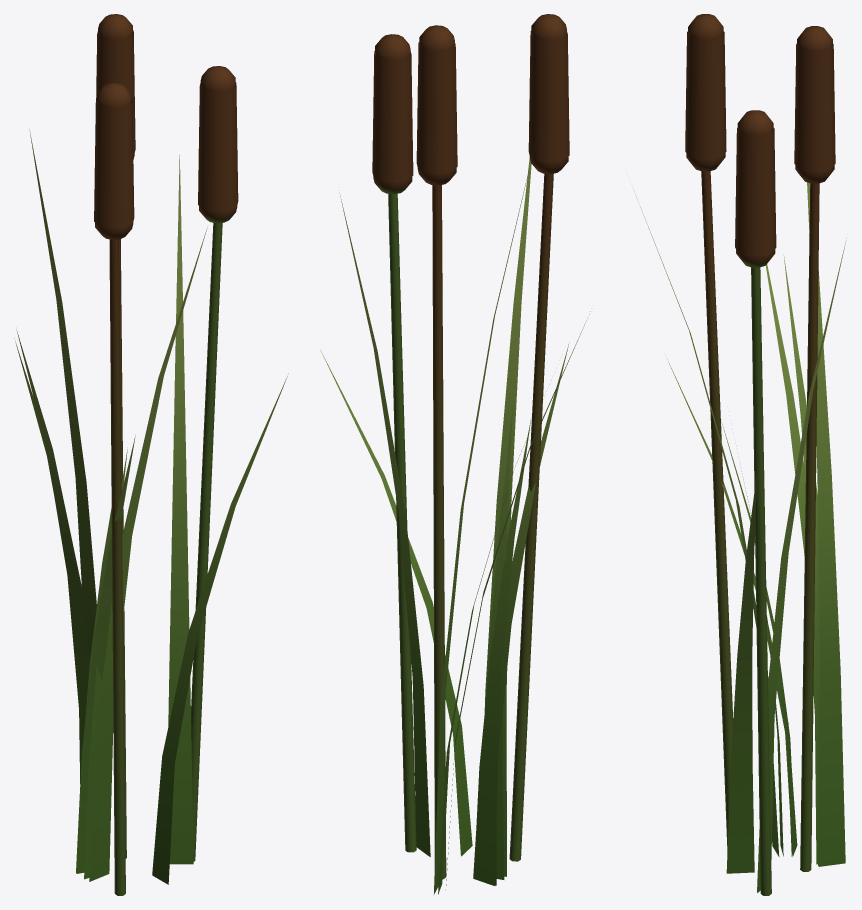
File: Cattail.glb
3 renders of one model, left to right at view 1: azimuth 30°, elevation 25°; view 2: azimuth 150°, elevation 25°; view 3: azimuth 270°, elevation 25°, orthographic.
Visible parts, largest first — view 1: Reeds, Spikes; view 2: Spikes, Reeds; view 3: Spikes, Reeds.
Boxes of the visible parts, left/top/right/bottom form: Reeds: left=15, top=130, right=288, bottom=884; Spikes: left=94, top=14, right=238, bottom=895; Spikes: left=372, top=14, right=569, bottom=879; Reeds: left=320, top=152, right=590, bottom=894; Spikes: left=685, top=14, right=835, bottom=895; Reeds: left=636, top=182, right=846, bottom=892.
Bounding box in the file's own units: 0.3366 × 0.989 × 0.2393.
